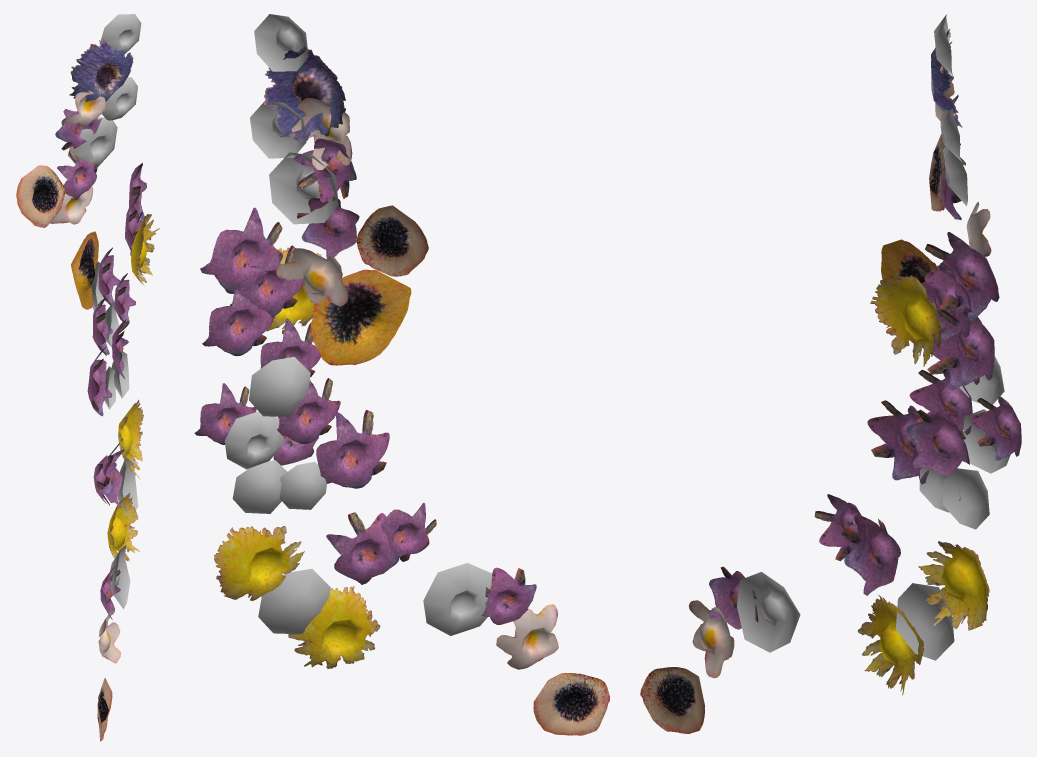
The model's file is Left_Flower3.fbx.
3 views of the same model, side by side, from view 1: azimuth 30°, elevation 25°; view 2: azimuth 150°, elevation 25°; view 3: azimuth 270°, elevation 25° (orthographic). The views are drawn at different scales.
Parts seen in each view (by area): view 1: Circle.841, Circle.842, Circle.711, Circle.844, Circle.002, Circle.007, Circle.833, Circle.828, Circle.008, Circle.832, Circle.555, Circle.829 (+19 smaller); view 2: Circle.711, Circle.007, Circle.002, Circle.841, Circle.710, Circle.699, Circle.555, Circle.842, Circle.016, Circle.705, Circle.694, Circle.844 (+20 smaller); view 3: Circle.007, Circle.008, Circle.699, Circle.016, Circle.710, Circle.002, Circle.705, Circle.650, Circle.694, Circle.040, Circle.555, Circle.707 (+16 smaller).
Boxes of the visible parts, x1=… form: Circle.841: x1=69, y1=39, x2=133, y2=101; Circle.842: x1=16, y1=165, x2=65, y2=227; Circle.711: x1=71, y1=231, x2=98, y2=309; Circle.844: x1=68, y1=117, x2=117, y2=166; Circle.002: x1=107, y1=493, x2=139, y2=561; Circle.007: x1=118, y1=399, x2=143, y2=479; Circle.833: x1=99, y1=14, x2=141, y2=54; Circle.828: x1=57, y1=151, x2=97, y2=200; Circle.008: x1=131, y1=214, x2=159, y2=286; Circle.832: x1=101, y1=77, x2=137, y2=120; Circle.555: x1=87, y1=347, x2=112, y2=416; Circle.829: x1=61, y1=90, x2=105, y2=126; Circle.711: x1=310, y1=269, x2=411, y2=365; Circle.007: x1=214, y1=526, x2=304, y2=600; Circle.002: x1=288, y1=586, x2=380, y2=668; Circle.841: x1=263, y1=46, x2=345, y2=143; Circle.710: x1=533, y1=673, x2=609, y2=735; Circle.699: x1=423, y1=563, x2=491, y2=635; Circle.555: x1=316, y1=409, x2=389, y2=488; Circle.842: x1=356, y1=205, x2=428, y2=276; Circle.016: x1=200, y1=207, x2=283, y2=293; Circle.705: x1=258, y1=568, x2=330, y2=634; Circle.694: x1=326, y1=512, x2=399, y2=584; Circle.844: x1=269, y1=152, x2=338, y2=224; Circle.007: x1=918, y1=541, x2=989, y2=630; Circle.008: x1=870, y1=275, x2=942, y2=366; Circle.699: x1=737, y1=572, x2=800, y2=652; Circle.016: x1=924, y1=232, x2=999, y2=320; Circle.710: x1=640, y1=667, x2=704, y2=733; Circle.002: x1=857, y1=595, x2=924, y2=695; Circle.705: x1=895, y1=583, x2=954, y2=660; Circle.650: x1=906, y1=409, x2=969, y2=476; Circle.694: x1=842, y1=515, x2=900, y2=595; Circle.040: x1=932, y1=307, x2=994, y2=385; Circle.555: x1=867, y1=400, x2=929, y2=484; Circle.707: x1=942, y1=468, x2=989, y2=529.
Bounding box in the file's own units: 44.1 × 140 × 60.65.
